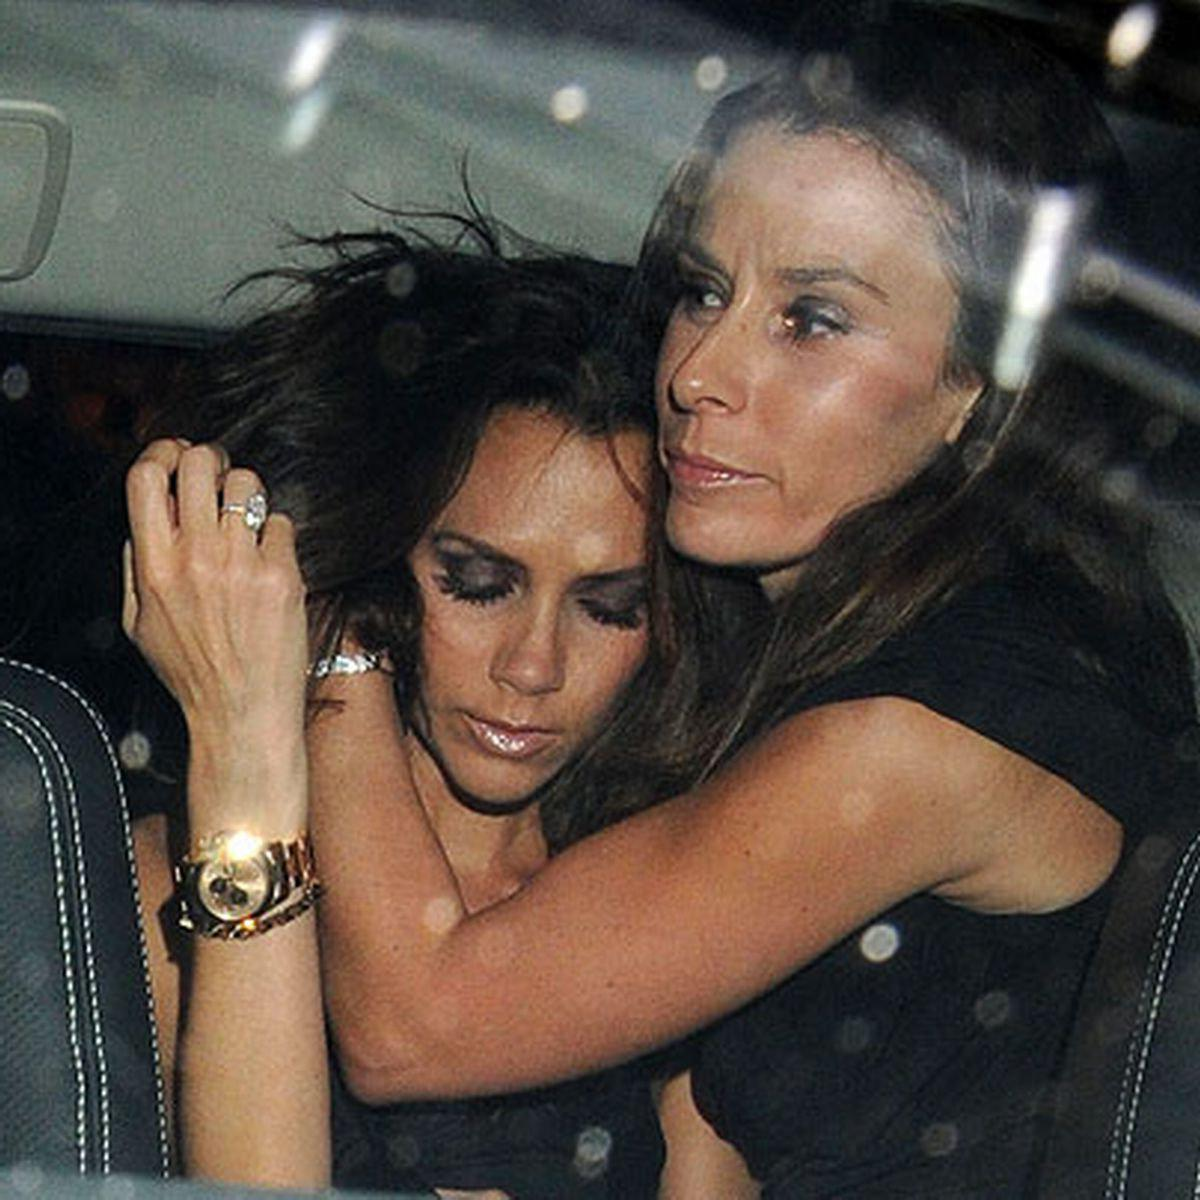Drunk: (666, 141, 929, 554), (421, 433, 643, 786)
